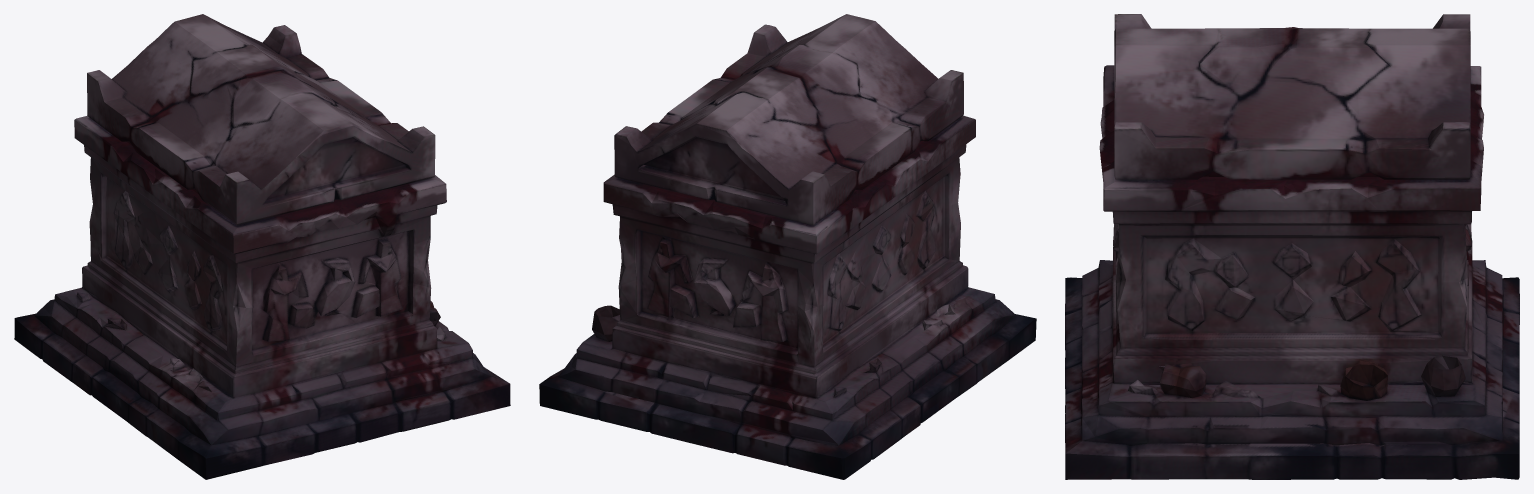
Rendered from tombe1_LOD0.glb.
3 views of the same model, side by side, from view 1: azimuth 30°, elevation 25°; view 2: azimuth 150°, elevation 25°; view 3: azimuth 270°, elevation 25° (orthographic). The views are drawn at different scales.
Visible parts, largest first — view 1: world; view 2: world; view 3: world.
Part boxes in pixels (<box>): world: <box>14,14,510,479</box>; world: <box>539,14,1036,479</box>; world: <box>1065,14,1519,479</box>.
Size of the model in its own units: 0.9177 by 0.8637 by 1.
1 material, 1 textured.
